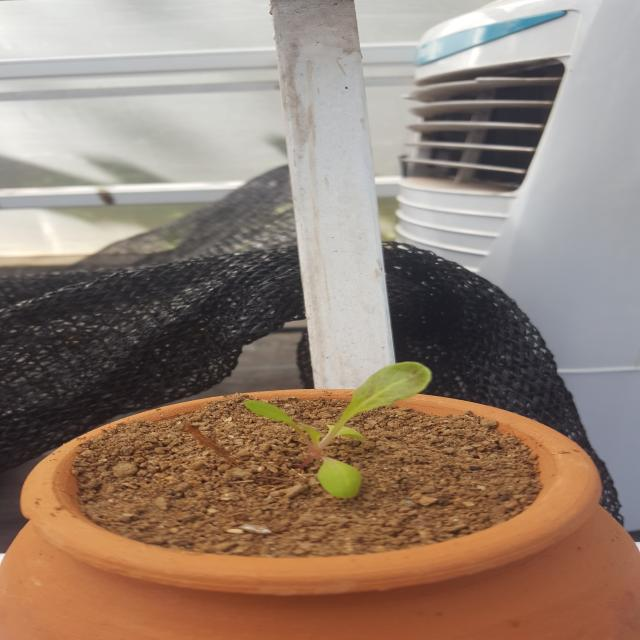Lettuce-Not-Ready-to-Harvest: (257, 365, 446, 494)
